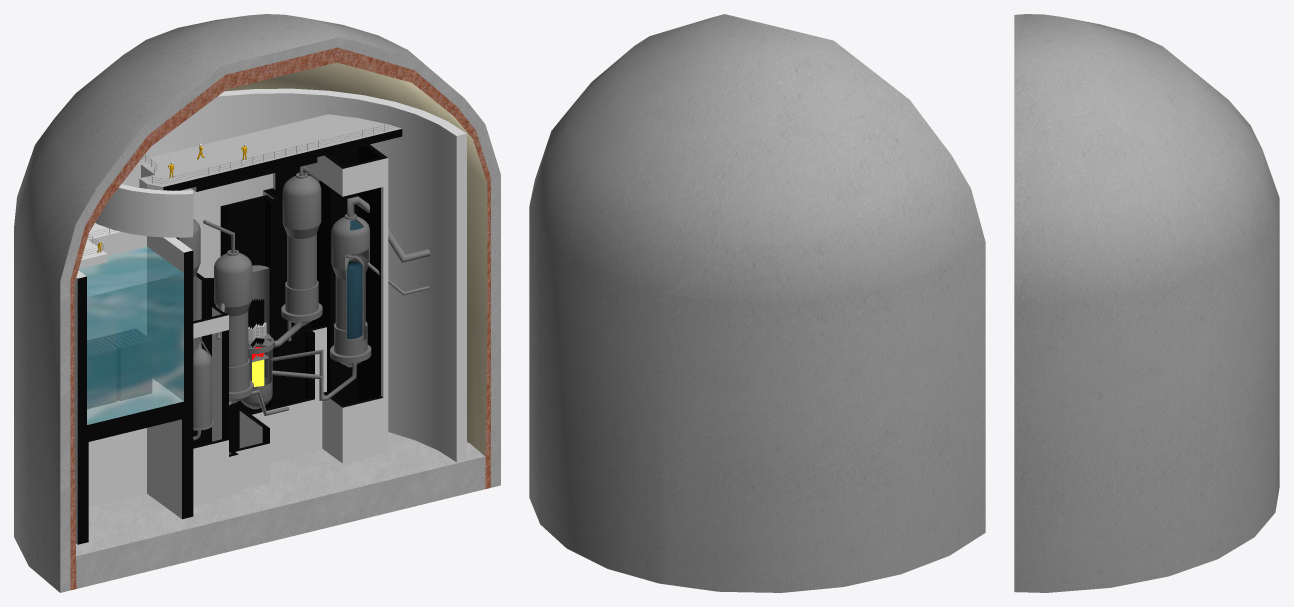
File: pwr_nuclear_reactor.glb
3 renders of one model, left to right at view 1: azimuth 30°, elevation 25°; view 2: azimuth 150°, elevation 25°; view 3: azimuth 270°, elevation 25°, orthographic. The views are drawn at different scales.
Parts seen in each view (by area): view 1: Object_2, Object_6, Object_5, Object_7, Object_12, Object_15, Object_8, Object_4, Object_9, Object_10, Object_16, Object_18 (+4 smaller); view 2: Object_6; view 3: Object_6.
Part boxes in pixels (<box>): Object_2: <box>74,88,466,544</box>; Object_6: <box>14,14,419,592</box>; Object_5: <box>60,37,500,592</box>; Object_7: <box>77,129,402,544</box>; Object_12: <box>78,246,183,424</box>; Object_15: <box>84,122,395,403</box>; Object_8: <box>79,178,183,424</box>; Object_4: <box>225,62,487,456</box>; Object_9: <box>70,47,490,590</box>; Object_10: <box>136,114,401,186</box>; Object_16: <box>179,166,430,440</box>; Object_18: <box>103,328,151,400</box>; Object_6: <box>529,14,985,592</box>; Object_6: <box>1014,14,1279,592</box>.
Bounding box in the file's own units: 152 × 160 × 85.25.
21 materials, 5 textured.
